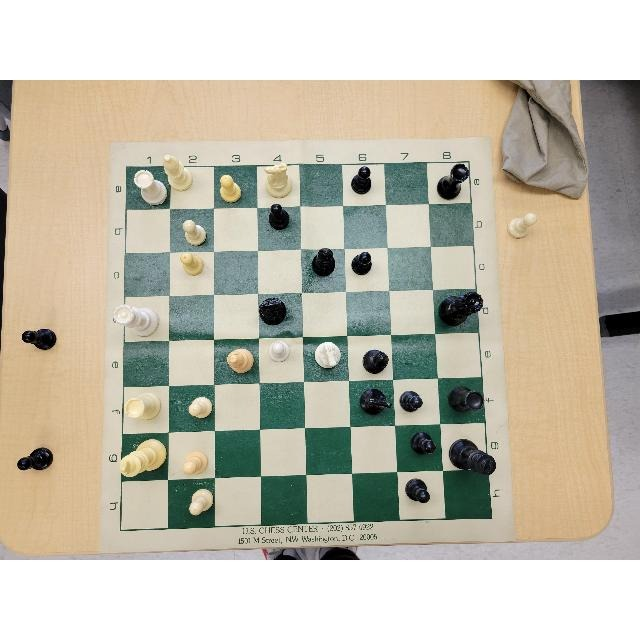black-bishop: (362, 344, 394, 378), (310, 245, 340, 279)
black-king: (444, 436, 503, 482)
black-knight: (257, 293, 289, 322), (361, 387, 388, 420)
black-pawn: (401, 471, 435, 508), (19, 447, 57, 478), (21, 326, 57, 352), (349, 163, 375, 197), (408, 426, 438, 455), (266, 201, 292, 231), (399, 388, 424, 417), (350, 251, 377, 274)
black-queen: (433, 279, 487, 333)
black-rook: (432, 157, 472, 200), (445, 380, 485, 416)
white-bishop: (163, 147, 190, 193), (225, 344, 257, 373)
white-king: (112, 437, 171, 481)
white-knight: (259, 159, 297, 198), (311, 339, 344, 371)
white-pawn: (503, 209, 543, 239), (177, 448, 212, 478), (182, 394, 217, 422), (186, 484, 213, 520), (217, 172, 244, 203), (181, 217, 207, 245), (181, 248, 205, 277), (268, 338, 291, 365)
white-queen: (106, 293, 163, 343)
white-rook: (131, 164, 169, 212), (123, 391, 163, 427)
